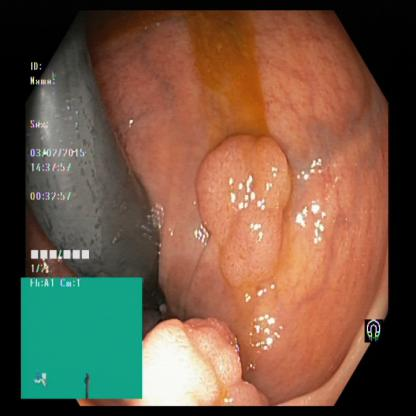Labels: (28, 60, 104, 276), (21, 281, 144, 401), (361, 307, 390, 350)
Polyps: (190, 141, 292, 278), (140, 323, 264, 408)
